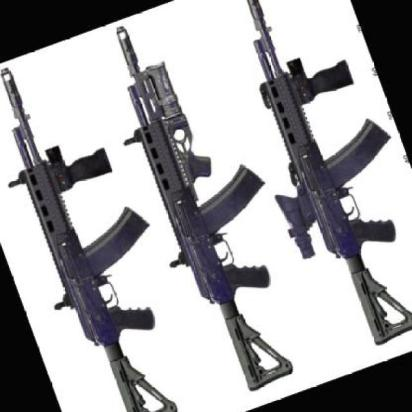Gun: (113, 23, 294, 390), (0, 65, 179, 412), (244, 0, 398, 346)
